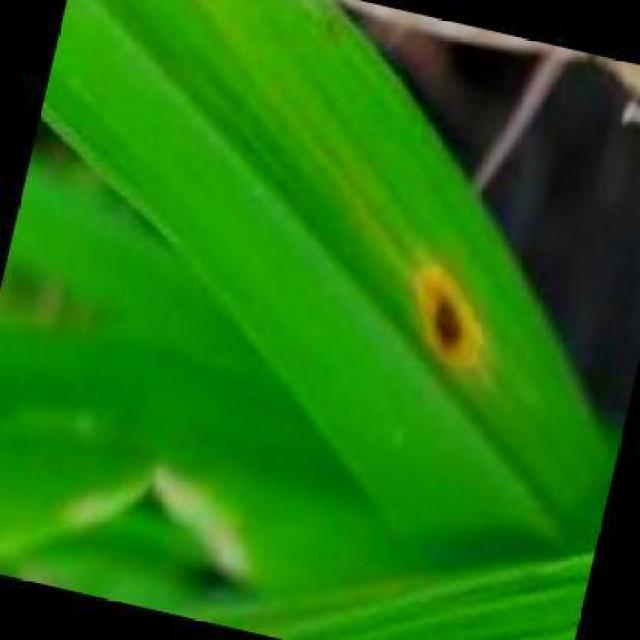Leaf_Blast: (405, 264, 486, 373)
